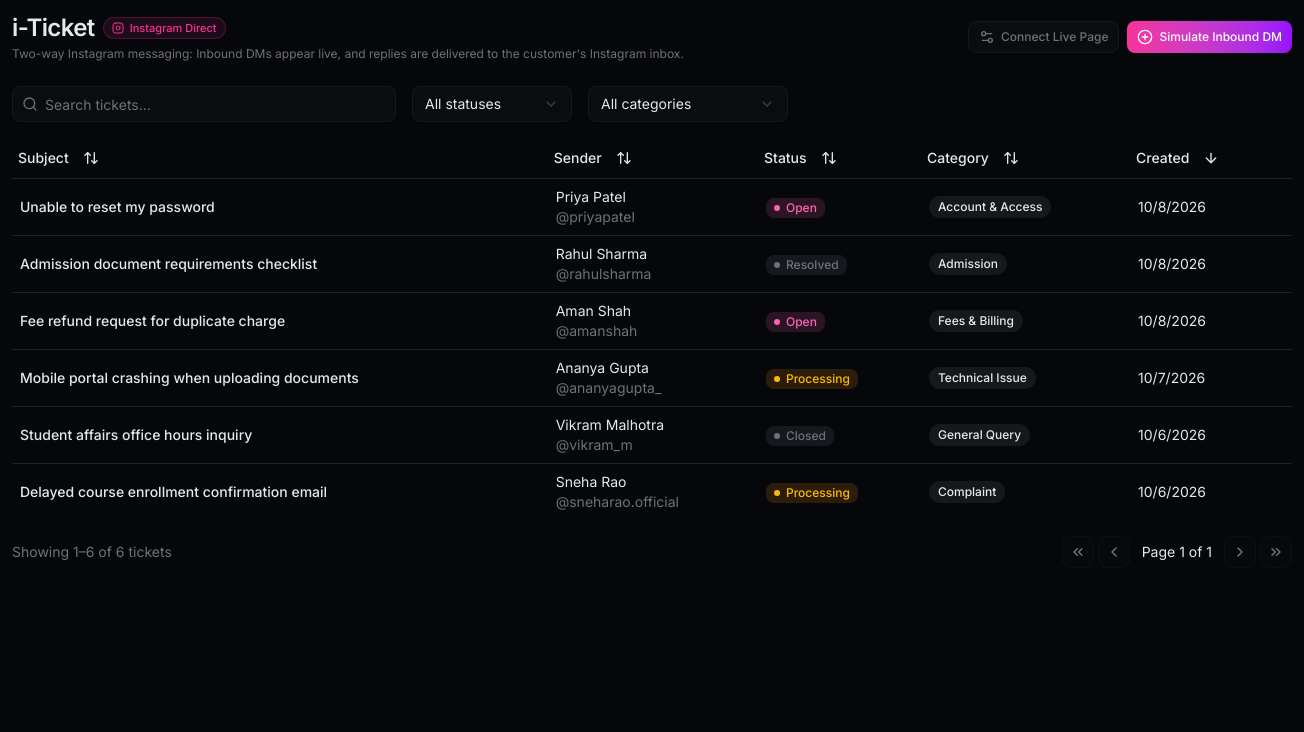
Scenario: ITicketsPage › should allow searching conversations by handle, name, or subject
Check: the text "Rahul Sharma" is shown, box [556,244,647,262]
In the field with placeholder "Search tickets...": (204, 104) [12,86,396,122], type "priyapatel"
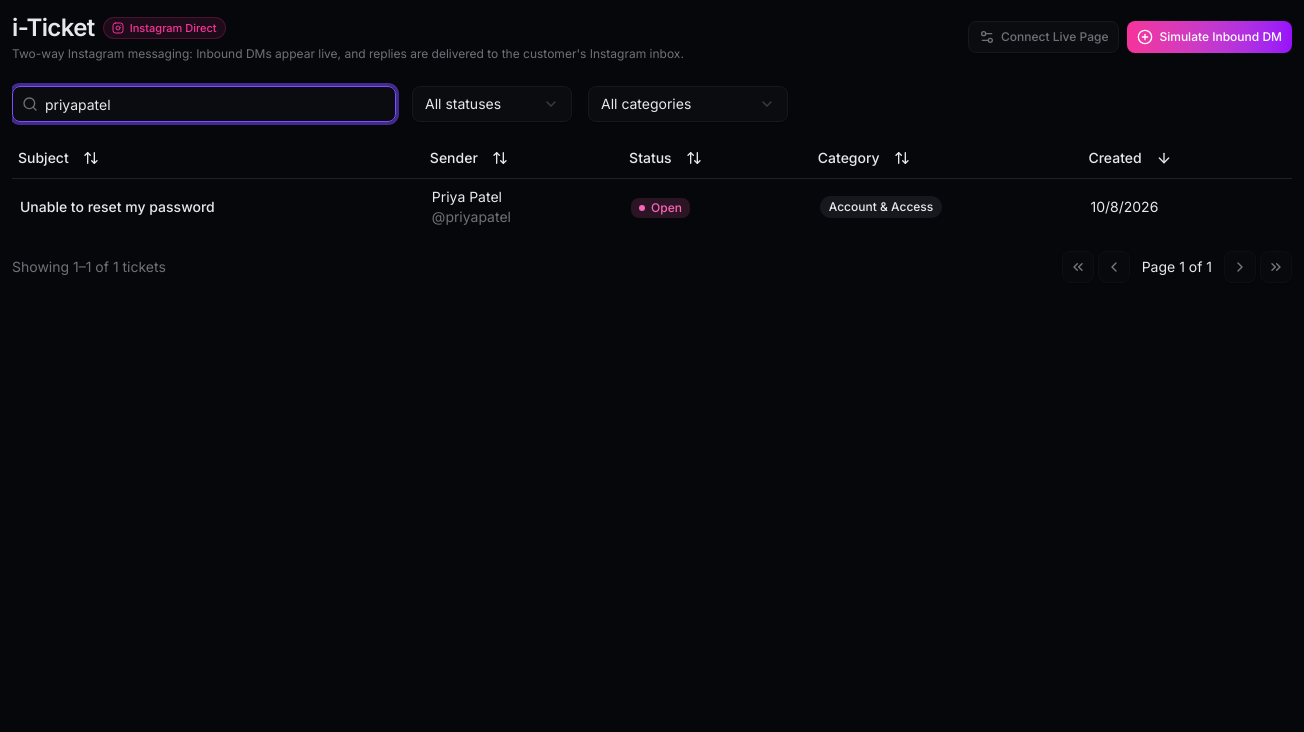
Check: the text "Priya Patel" is shown, box [432,188,502,204]
Check: the text "Rahul Sharma" is gone
